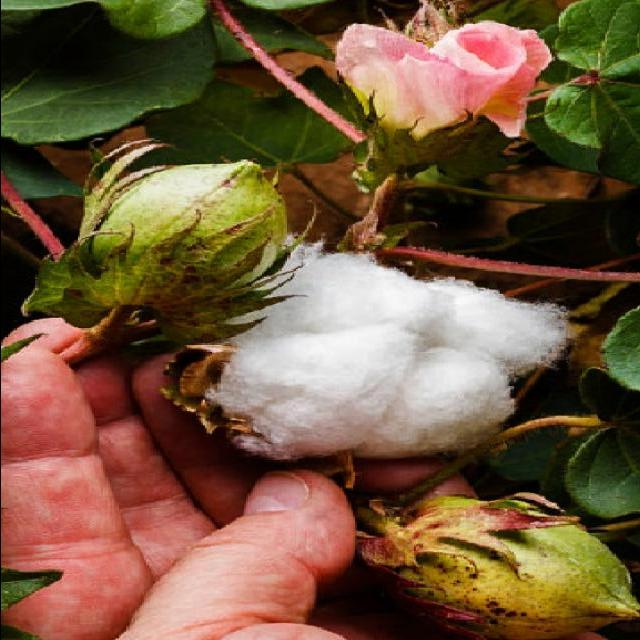Cotton Blossom: (334, 0, 562, 188)
Early Boll: (73, 152, 295, 360), (348, 483, 640, 637)
Matured Cotton Boll: (190, 256, 532, 468)
